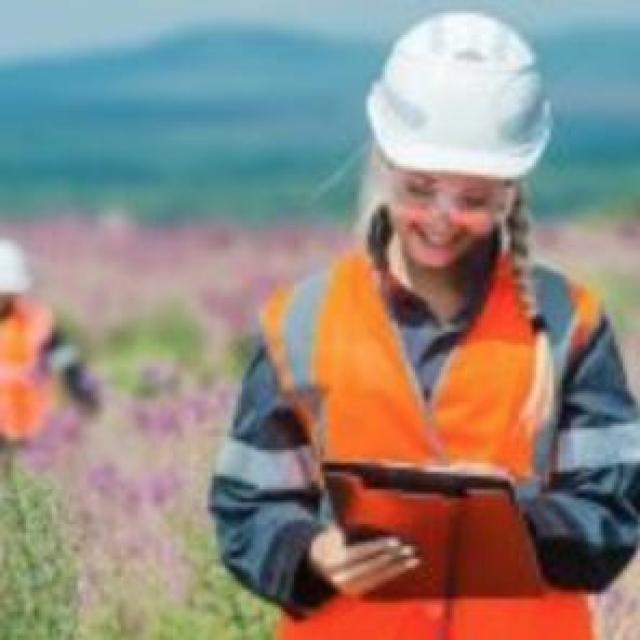Reflective-Jacket: (255, 244, 612, 640), (0, 300, 91, 466)
Safety-Helmet: (359, 7, 564, 185), (0, 231, 45, 310)
